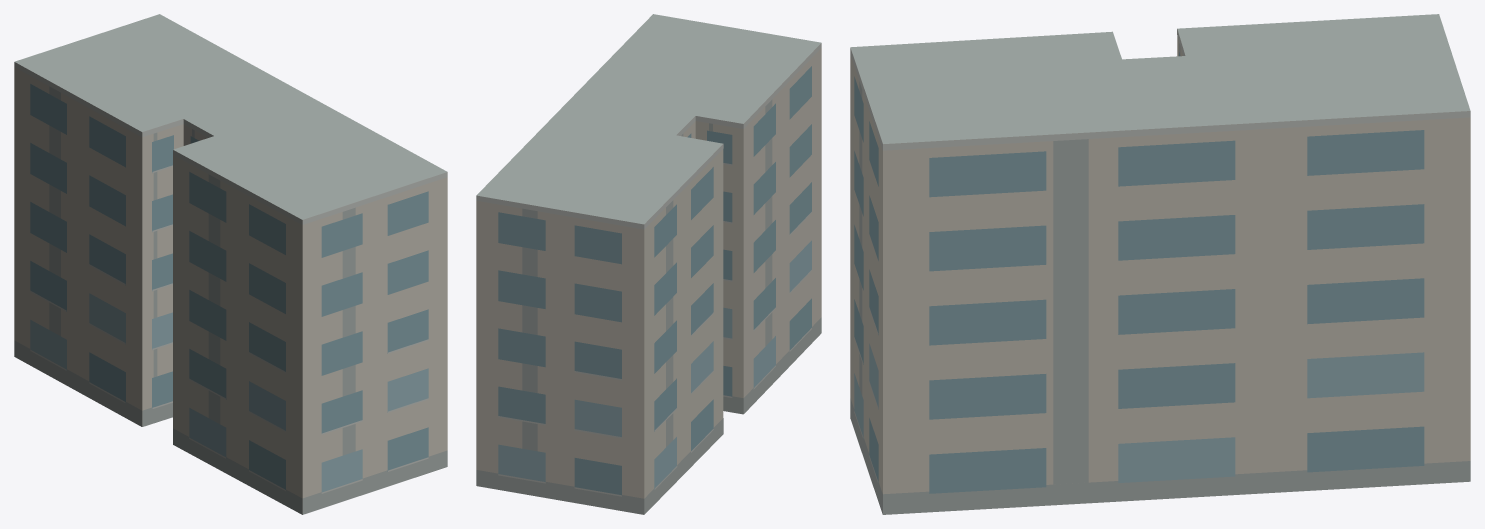
File: survey-upis-32908557.glb
3 views of the same model, side by side, from view 1: azimuth 30°, elevation 25°; view 2: azimuth 150°, elevation 25°; view 3: azimuth 270°, elevation 25° (orthographic). The views are drawn at different scales.
Visible parts, largest first — view 1: survey-upis-32908557.tmp; view 2: survey-upis-32908557.tmp; view 3: survey-upis-32908557.tmp.
Part boxes in pixels (<box>): survey-upis-32908557.tmp: <box>14,14,447,514</box>; survey-upis-32908557.tmp: <box>476,14,821,514</box>; survey-upis-32908557.tmp: <box>850,14,1470,514</box>.
Bounding box in the file's own units: 10.4 × 13.8 × 20.94.
